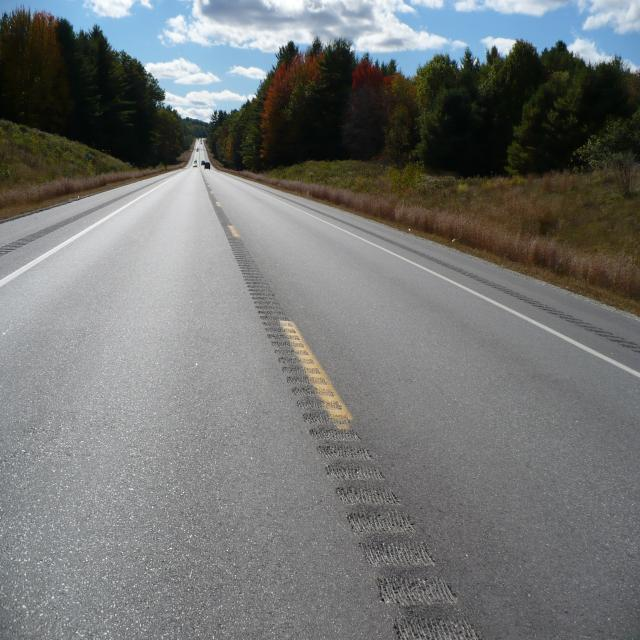Guard rail: (2, 110, 177, 290)
Pedestrian crosswalk: (211, 157, 639, 635)
Road: (7, 282, 393, 633)
